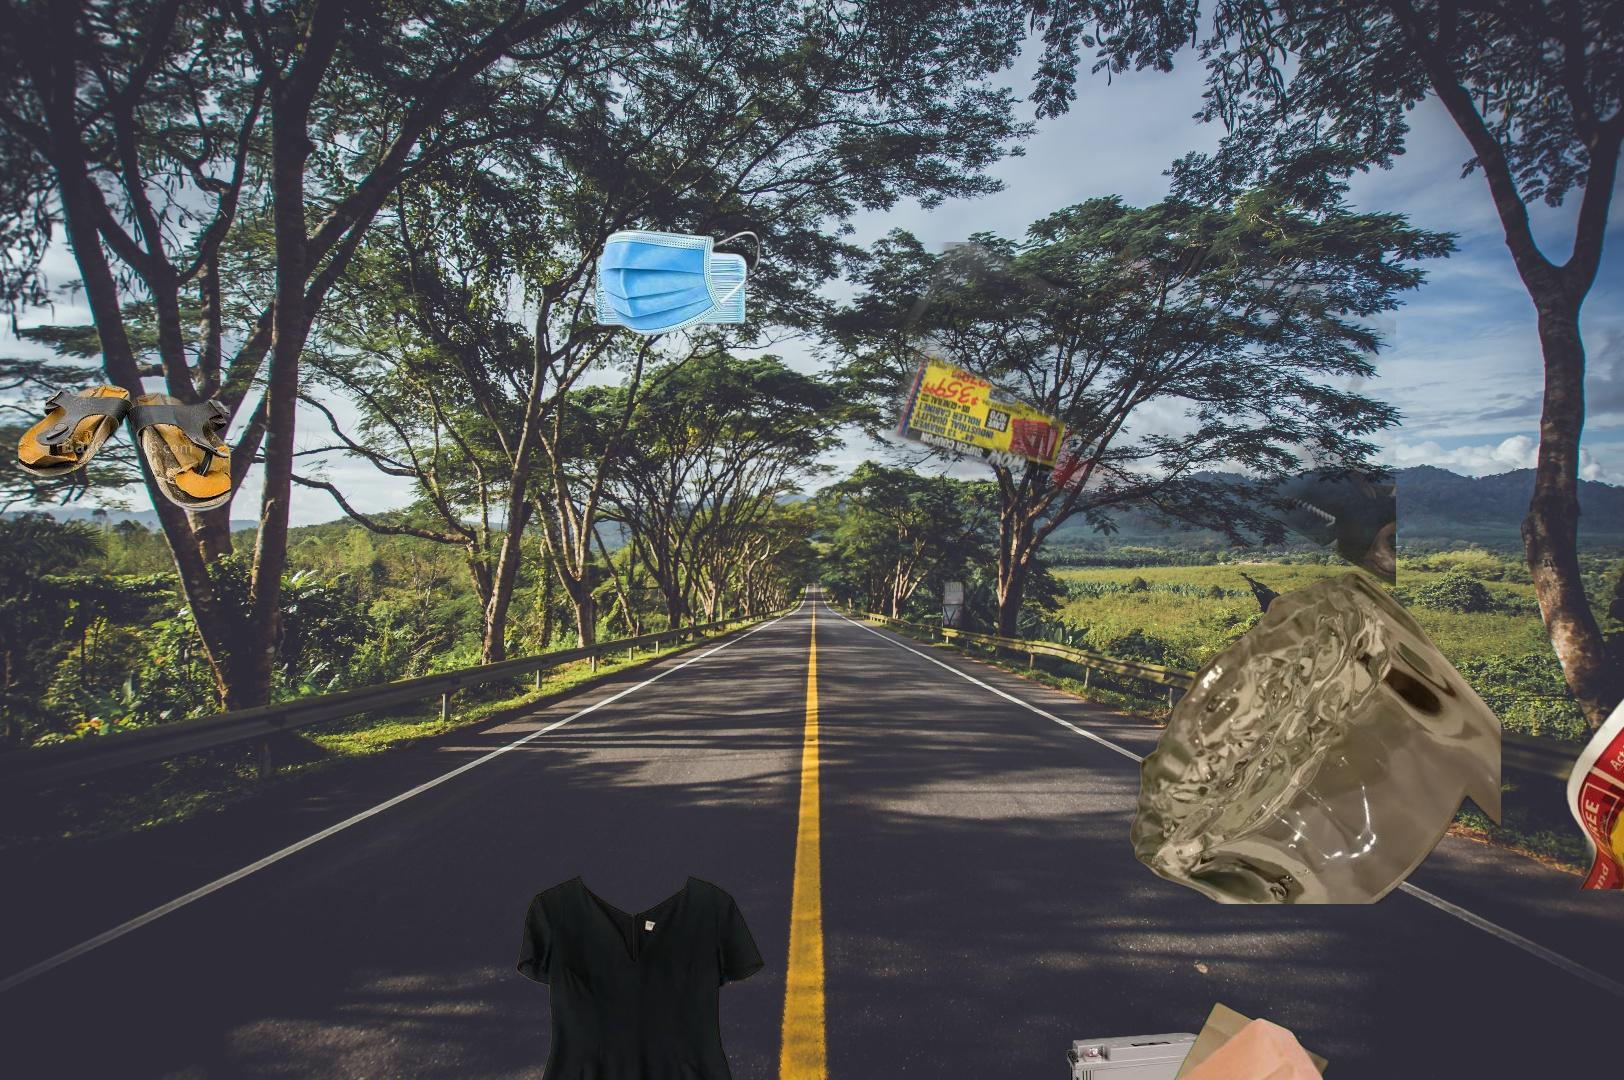battery: (1064, 1030, 1230, 1080)
clothes: (512, 871, 769, 1080)
glass: (1125, 568, 1501, 904)
paper: (884, 242, 1396, 626), (1559, 505, 1624, 889)
paper-bag: (1135, 999, 1380, 1080)
shoes: (15, 381, 234, 514)
trash: (591, 216, 763, 339)
